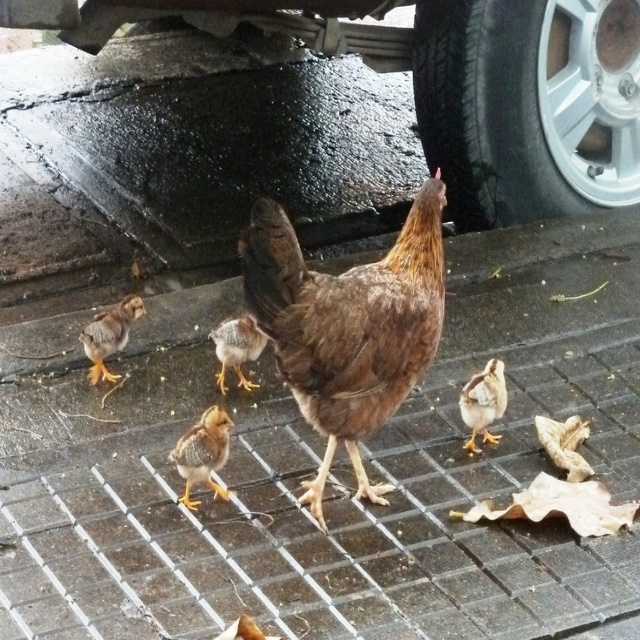Chicken: (245, 168, 451, 527)
